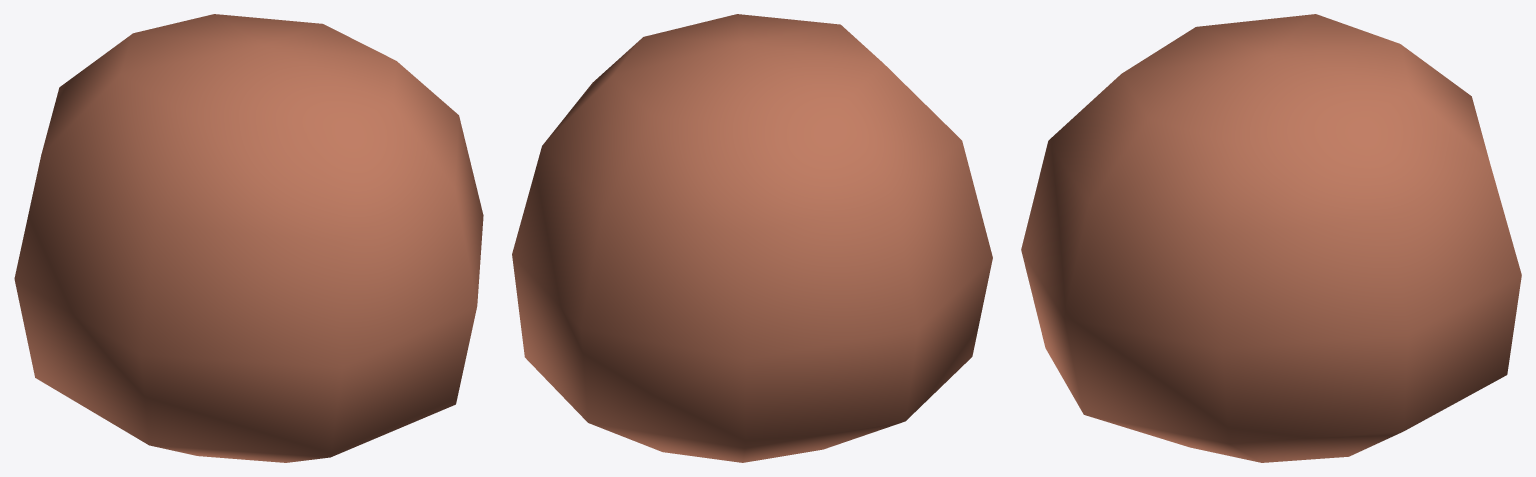
File: Shrub_Top_B_01_LOD2.gltf
3 renders of one model, left to right at view 1: azimuth 30°, elevation 25°; view 2: azimuth 150°, elevation 25°; view 3: azimuth 270°, elevation 25°, orthographic.
Visible parts, largest first — view 1: Shrub_Top_B_01_LOD2_Cylinder.686; view 2: Shrub_Top_B_01_LOD2_Cylinder.686; view 3: Shrub_Top_B_01_LOD2_Cylinder.686.
Boxes of the visible parts, box(x1,y1,x2,y2) form: Shrub_Top_B_01_LOD2_Cylinder.686: box(14, 14, 483, 462); Shrub_Top_B_01_LOD2_Cylinder.686: box(512, 14, 992, 462); Shrub_Top_B_01_LOD2_Cylinder.686: box(1021, 14, 1521, 462).
Bounding box in the file's own units: 4.46 × 3.92 × 4.77.
Materials: 1 (1 with a texture image).
